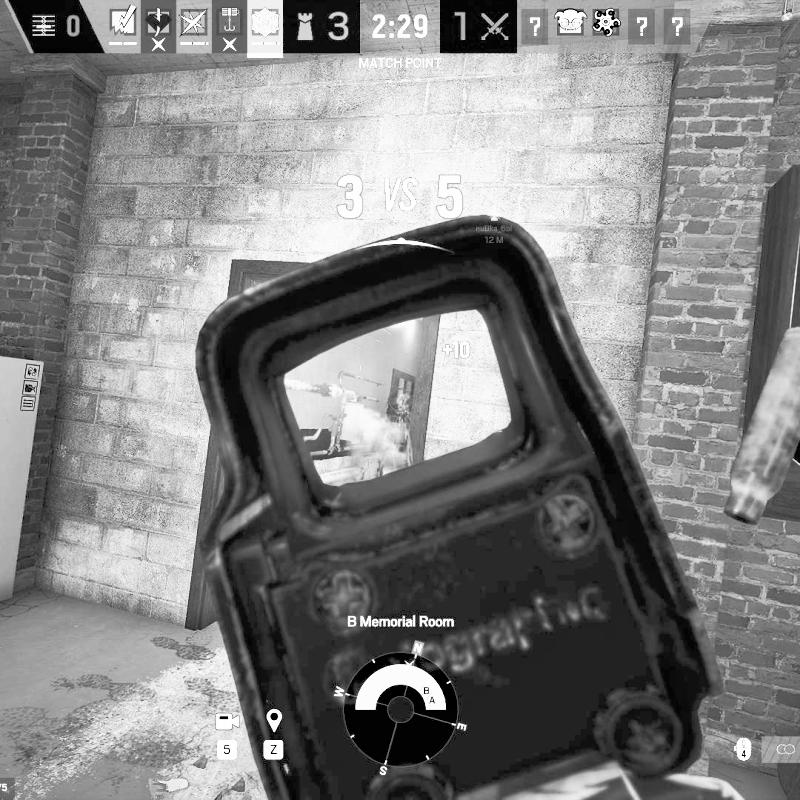Character: (396, 393, 412, 430)
